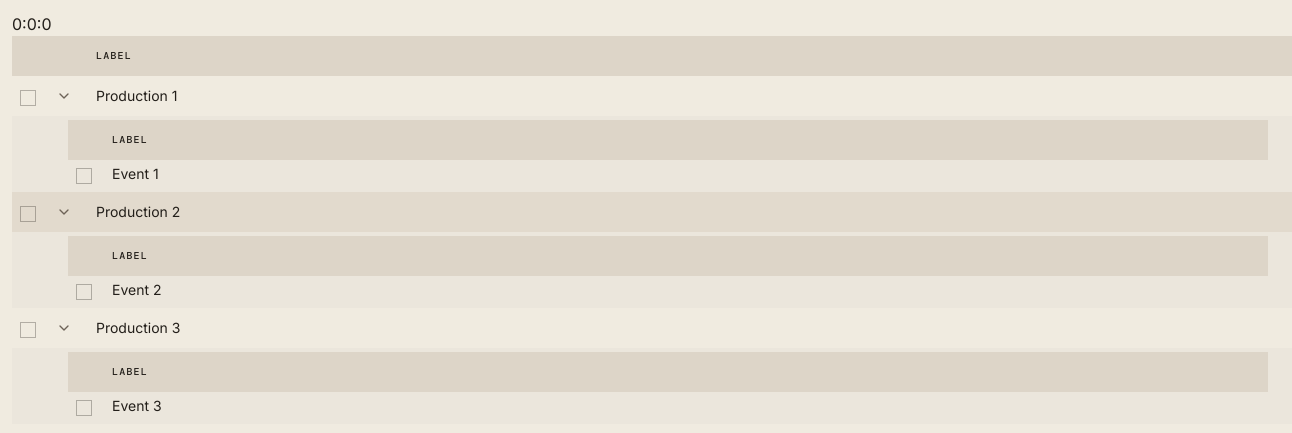
Test: useParentChildSelection › keeps parent and child selection in sync when the parent selector is clicked quickly
Click the checkbox next to "Production 1" at (28, 98), box [20,90,36,106]
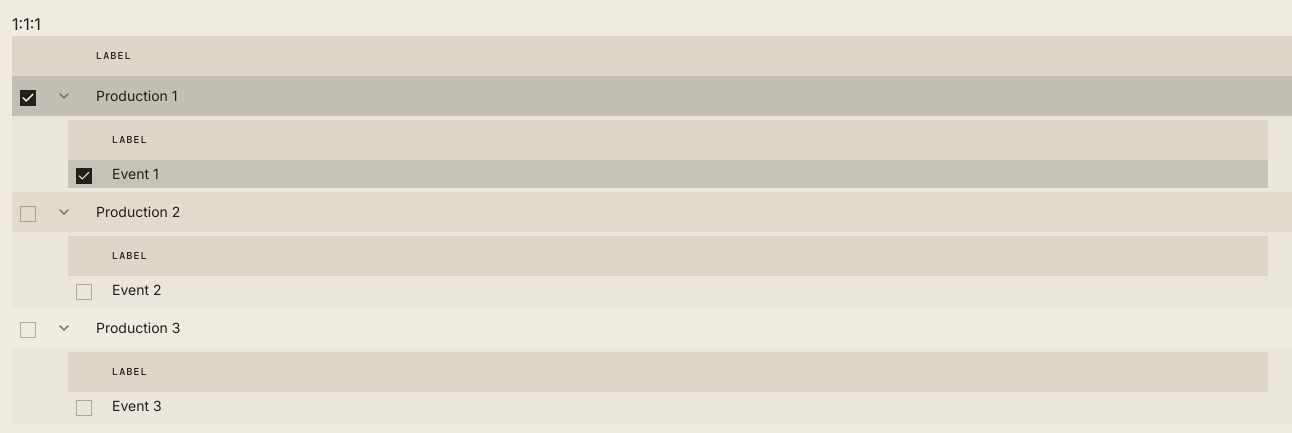
Click the checkbox next to "Production 1" at (28, 98), box [20,90,36,106]
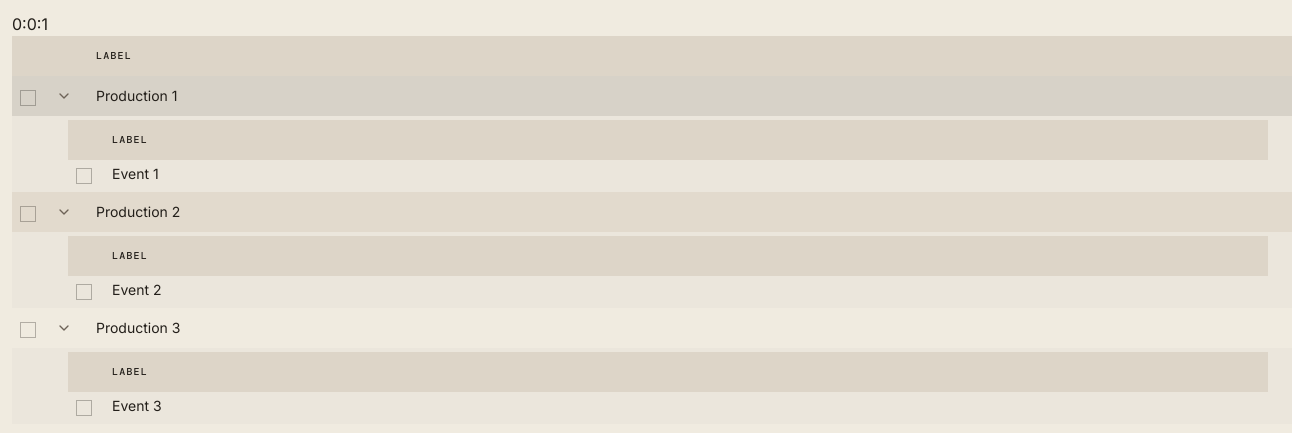
Now the text with test id "counts" reads "0:0:1", box [12,14,48,34]
